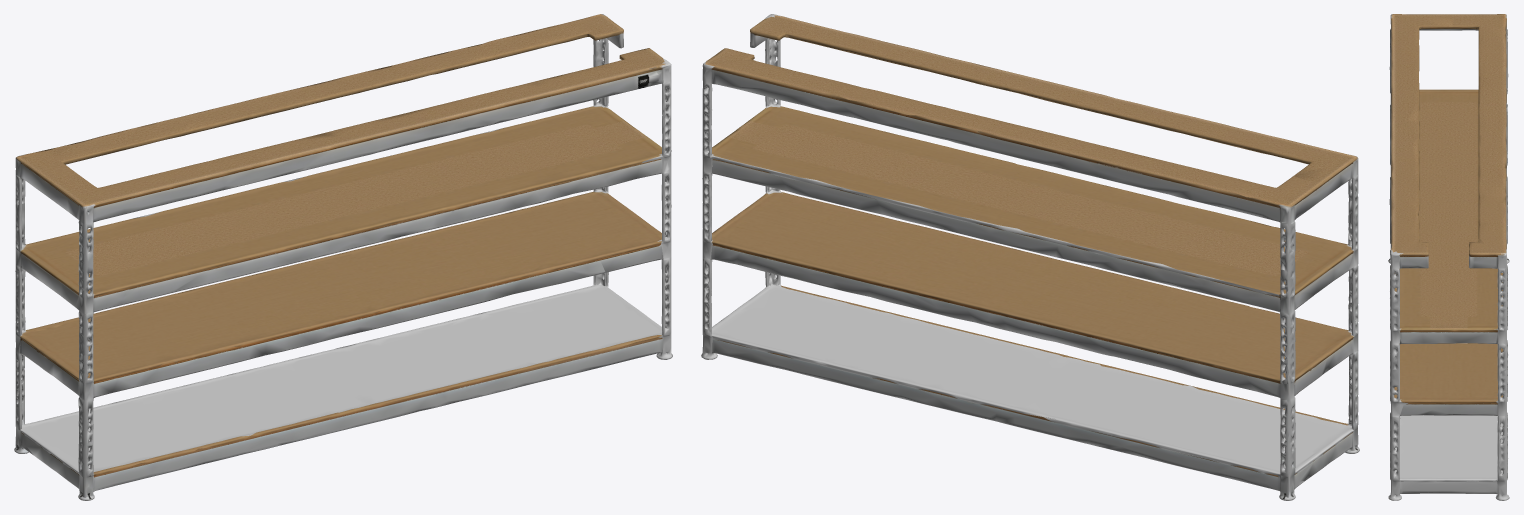
Rendered from PPE_B_MetalShelving.fbx.
The picture shows the model from 3 angles, left to right: view 1: azimuth 30°, elevation 25°; view 2: azimuth 150°, elevation 25°; view 3: azimuth 270°, elevation 25°; orthographic projection. The views are drawn at different scales.
Visible parts, largest first — view 1: tripo_part_4, tripo_part_7, tripo_part_1, tripo_part_5, tripo_part_8, tripo_part_18, tripo_part_9, tripo_part_14, tripo_part_3, tripo_part_0, tripo_part_13, tripo_part_6 (+4 smaller); view 2: tripo_part_7, tripo_part_1, tripo_part_4, tripo_part_5, tripo_part_11, tripo_part_10, tripo_part_12, tripo_part_2, tripo_part_3, tripo_part_6, tripo_part_24, tripo_part_8 (+6 smaller); view 3: tripo_part_4, tripo_part_5, tripo_part_1, tripo_part_7, tripo_part_0, tripo_part_2, tripo_part_23, tripo_part_8, tripo_part_26, tripo_part_24, tripo_part_3, tripo_part_28 (+1 smaller).
Part boxes in pixels (x1,y1,x2,y2): tripo_part_4: (20,106,661,308); tripo_part_7: (18,191,661,382); tripo_part_1: (20,285,661,474); tripo_part_5: (21,14,665,220); tripo_part_8: (87,64,668,222); tripo_part_18: (93,337,663,491); tripo_part_9: (93,159,661,312); tripo_part_14: (93,246,663,397); tripo_part_3: (75,198,98,497); tripo_part_0: (642,58,672,359); tripo_part_13: (251,335,661,435); tripo_part_6: (15,155,26,336); tripo_part_7: (711,191,1353,393); tripo_part_1: (712,281,1354,486); tripo_part_4: (712,106,1353,309); tripo_part_5: (705,15,1353,222); tripo_part_11: (710,244,1295,441); tripo_part_10: (712,339,1352,491); tripo_part_12: (712,159,1280,312); tripo_part_2: (701,61,1279,359); tripo_part_3: (1339,154,1358,451); tripo_part_6: (1279,203,1295,382); tripo_part_24: (978,131,1286,207); tripo_part_8: (782,16,1348,154); tripo_part_4: (1391,89,1503,344); tripo_part_5: (1392,15,1506,268); tripo_part_1: (1394,244,1506,481); tripo_part_7: (1394,157,1507,404); tripo_part_0: (1388,249,1497,500); tripo_part_2: (1494,249,1509,500); tripo_part_23: (1400,403,1497,415); tripo_part_8: (1390,16,1395,259); tripo_part_26: (1397,14,1505,21); tripo_part_24: (1502,16,1506,142); tripo_part_3: (1389,14,1404,249); tripo_part_28: (1502,166,1506,249).
Bounding box in the file's own units: 0.9809 × 0.4648 × 0.2075.
